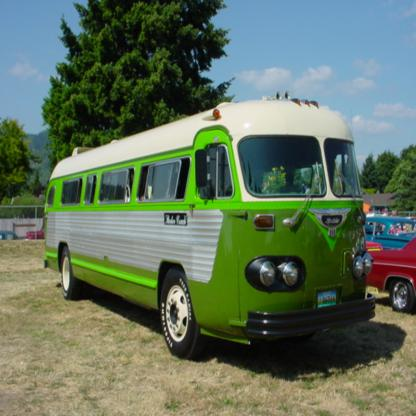Bus: (43, 90, 376, 360)
